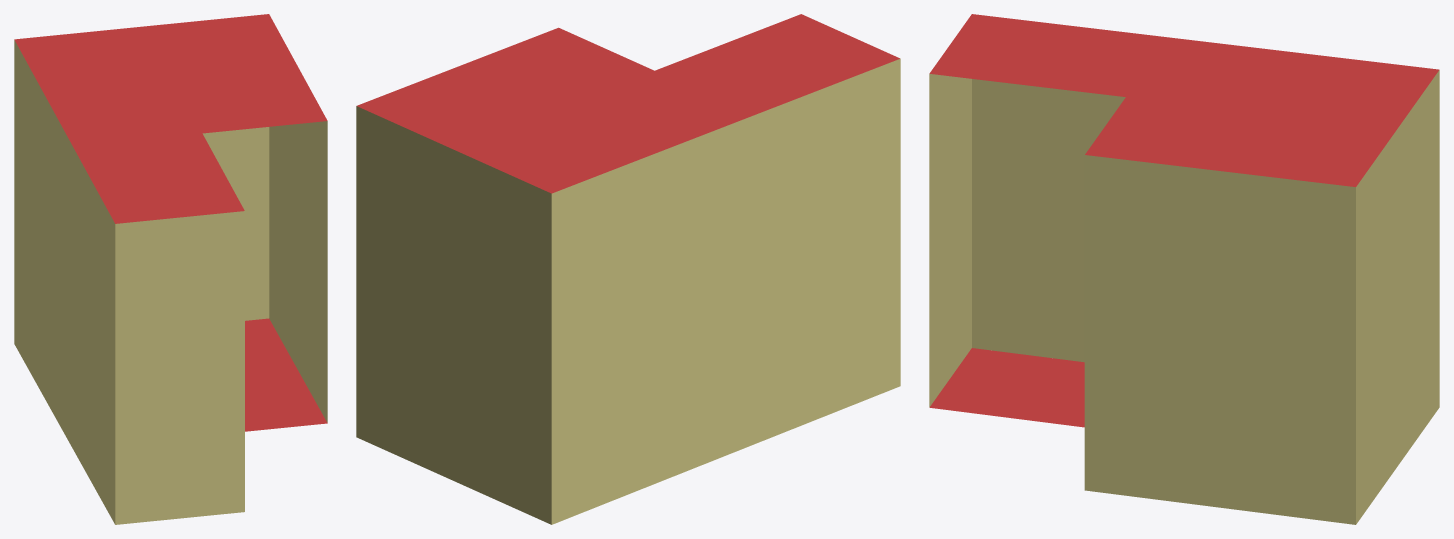
3 views of the same model, side by side, from view 1: azimuth 30°, elevation 25°; view 2: azimuth 150°, elevation 25°; view 3: azimuth 270°, elevation 25° (orthographic). The views are drawn at different scales.
Parts seen in each view (by area): view 1: group_4, group_3, group_5; view 2: group_4, group_3; view 3: group_4, group_3, group_5.
Boxes of the visible parts, <box> form: group_4: <box>14,40,327,524</box>; group_3: <box>14,14,327,223</box>; group_5: <box>245,318,327,431</box>; group_4: <box>356,58,900,524</box>; group_3: <box>357,14,899,193</box>; group_4: <box>929,70,1439,524</box>; group_3: <box>929,14,1439,186</box>; group_5: <box>929,348,1084,427</box>.
Size of the model in its own units: 7.35 by 8.96 by 6.54.
